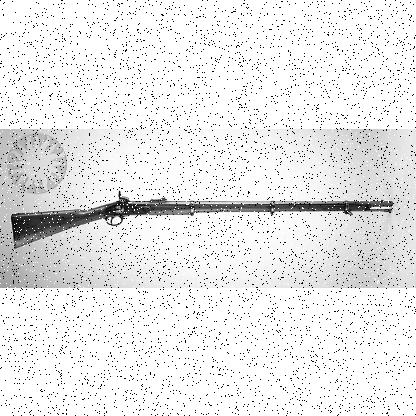gun: (0, 189, 389, 253)
